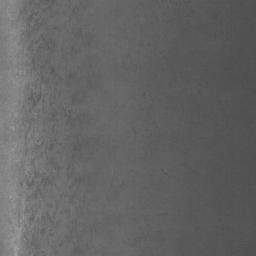Silk spot: (0, 0, 101, 256), (132, 92, 161, 154), (150, 0, 190, 24), (72, 24, 92, 46)
